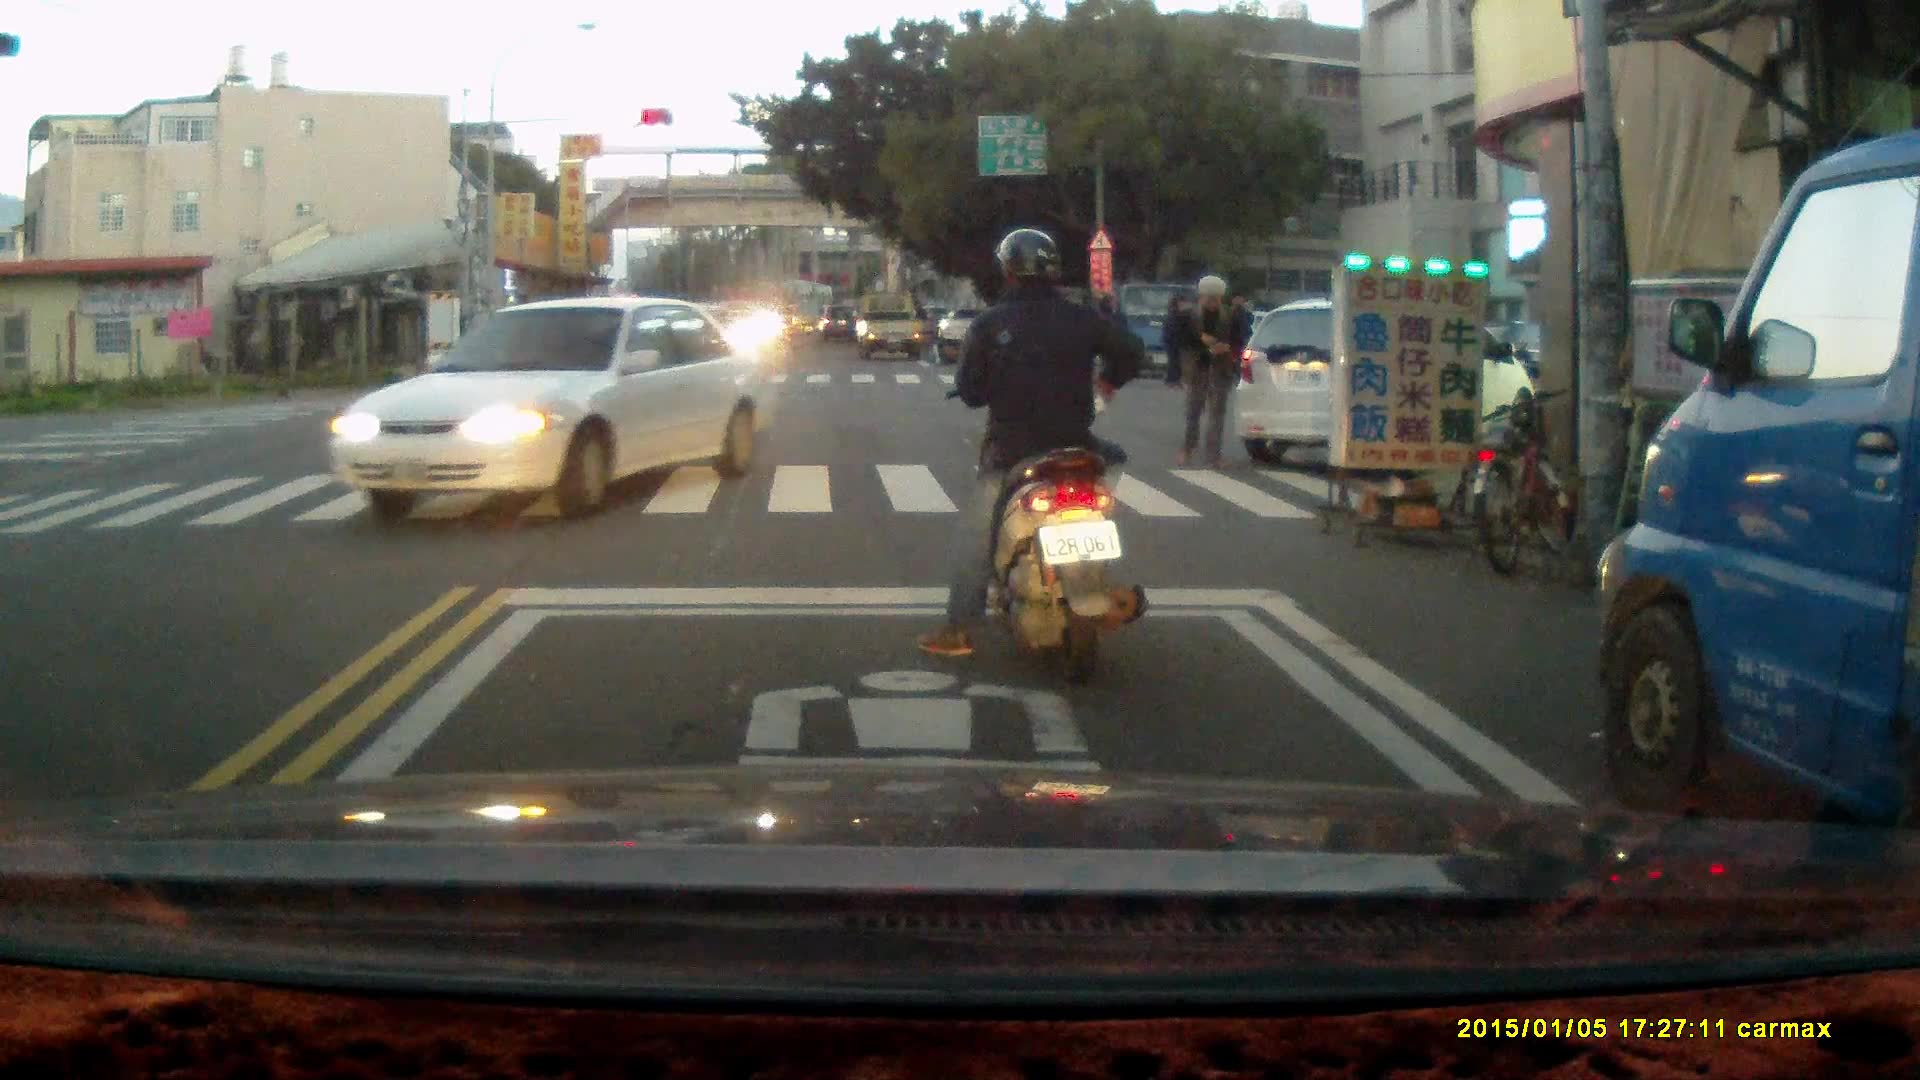pedestrian: (1174, 273, 1237, 470), (1091, 289, 1132, 388), (1160, 294, 1194, 391)
rider: (918, 230, 1149, 685)
vehicle: (1596, 120, 1920, 901), (332, 295, 754, 524), (1236, 303, 1533, 462), (854, 291, 927, 361)
